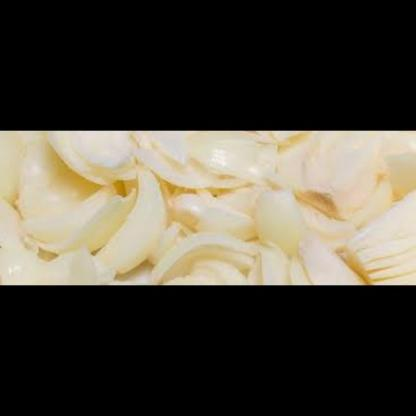onion: (0, 131, 416, 285)
